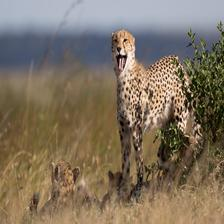Cheetah: (110, 28, 205, 204), (25, 153, 98, 218)
